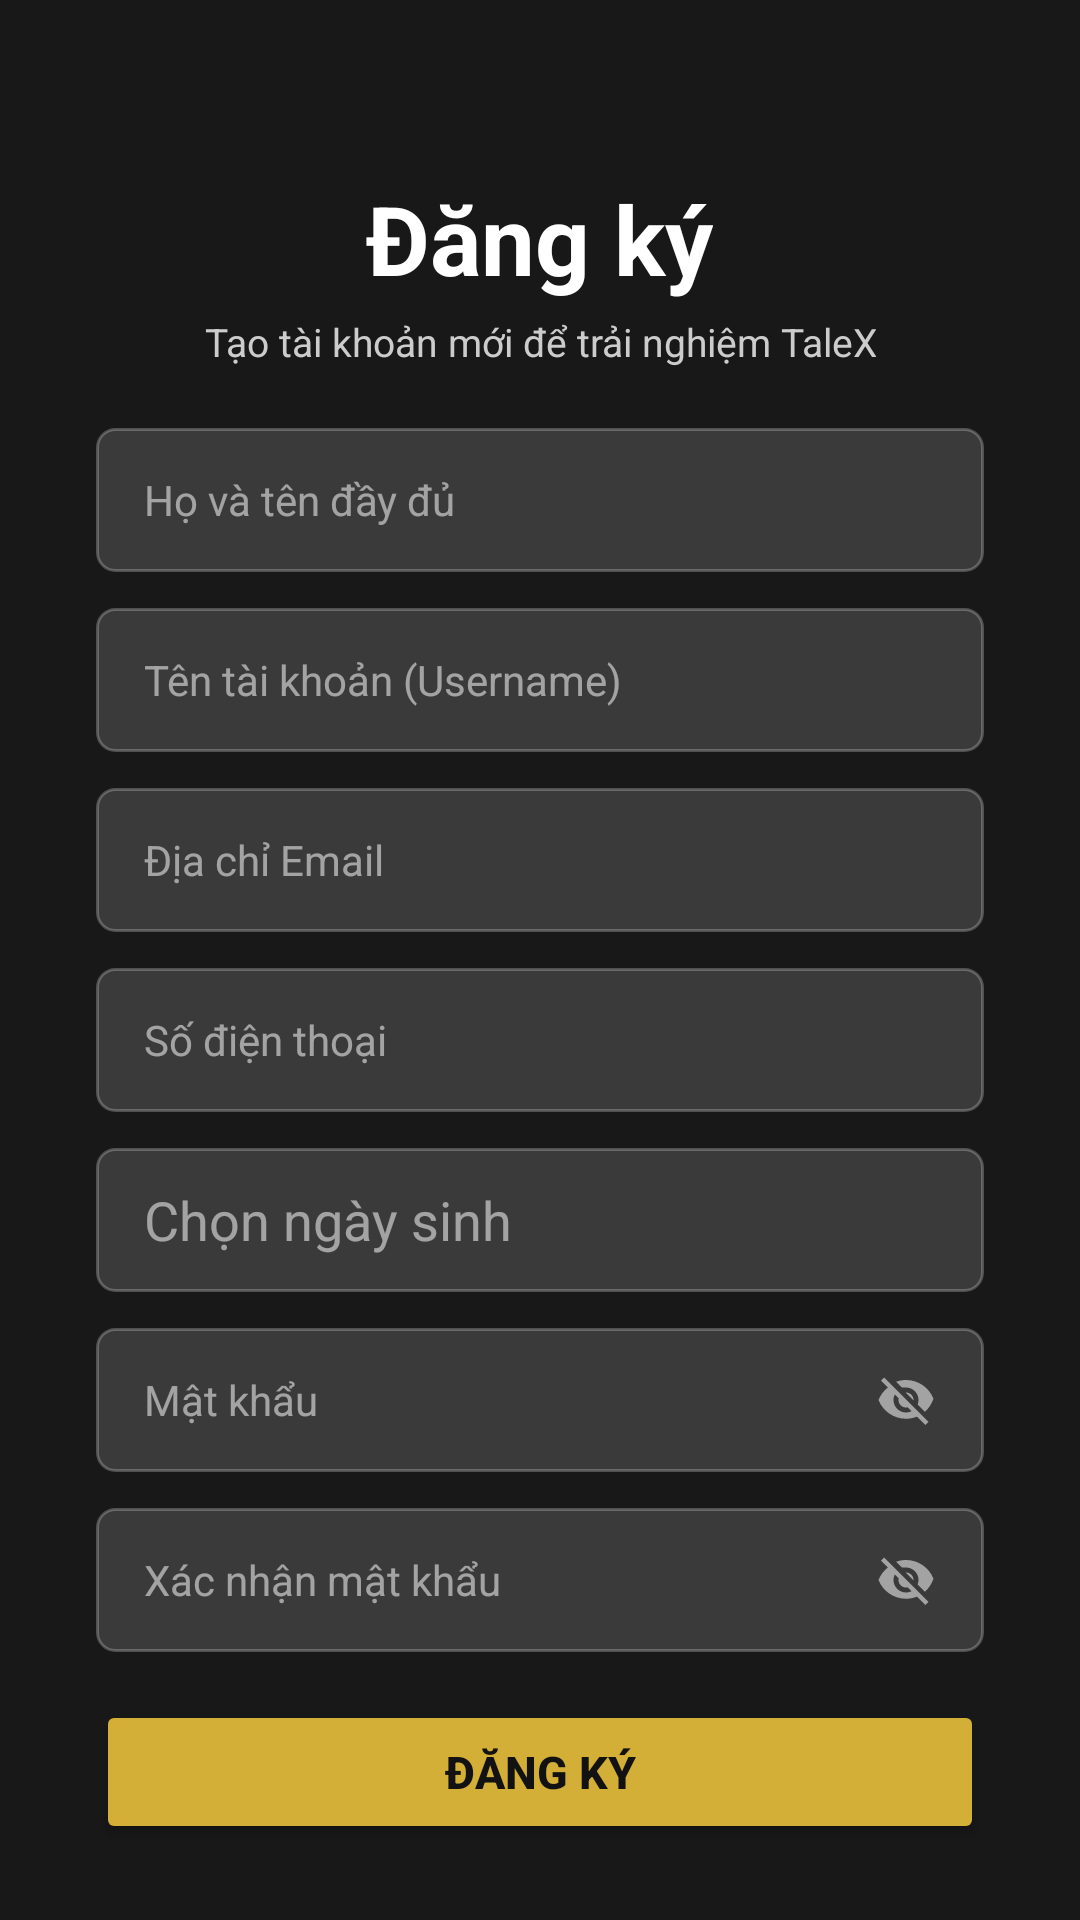

Locate icon controls on the screen. Image size 1080 x 1920, boxes as (x1, y1, x2, y2).
eye close: (878, 1378, 934, 1425), (878, 1558, 934, 1605)
